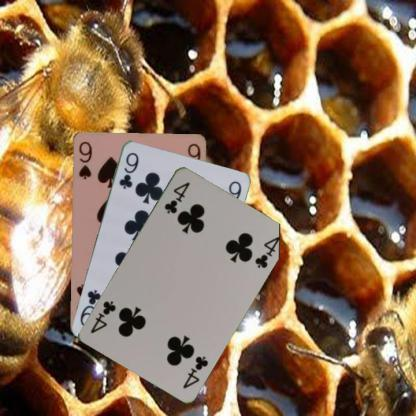4c: (180, 352, 210, 390), (161, 178, 191, 215)
9c: (116, 149, 140, 190)
9s: (76, 139, 93, 180)
